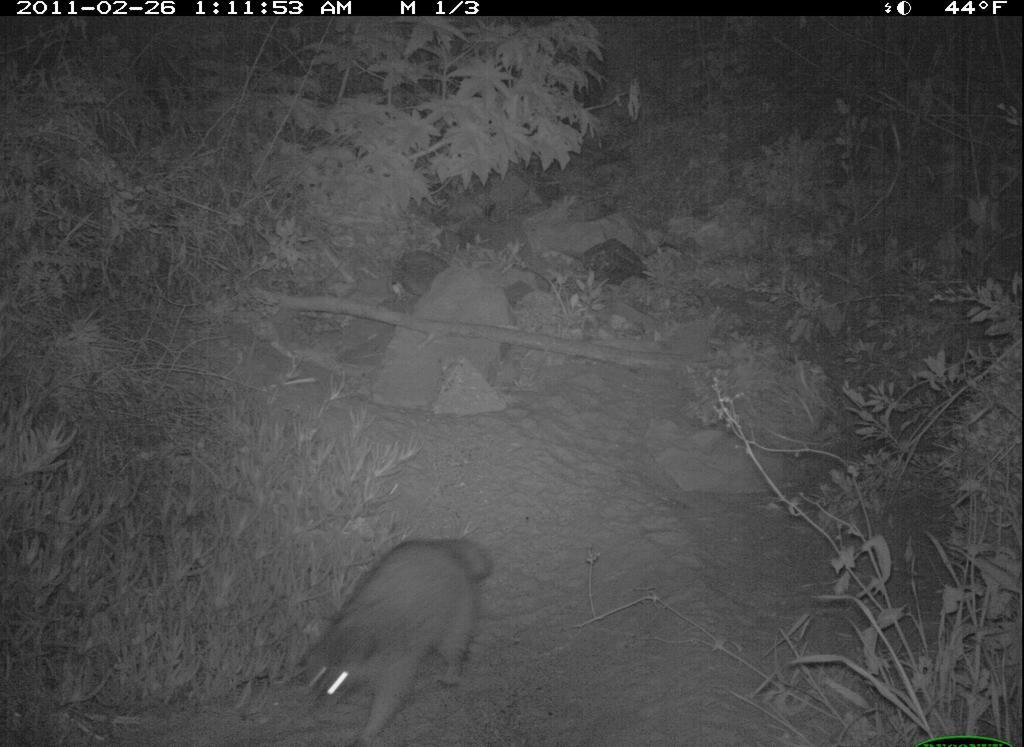raccoon: (292, 520, 500, 747)
